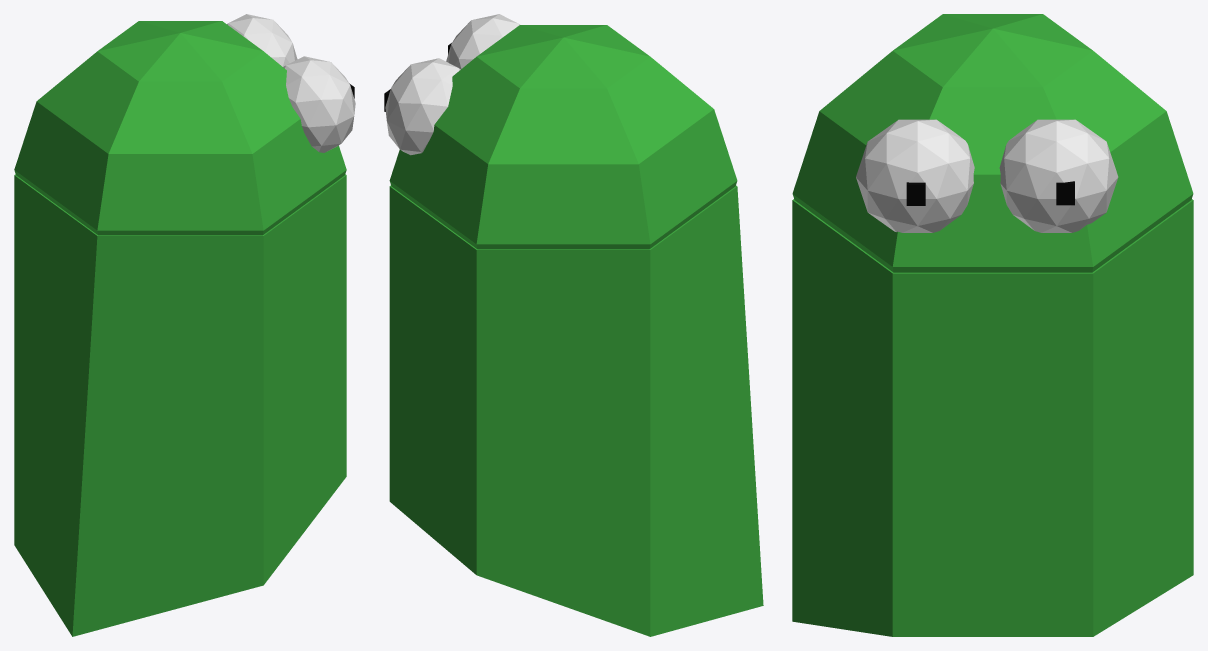
Rendered from fantasma_verde_idle.fbx.
3 renders of one model, left to right at view 1: azimuth 30°, elevation 25°; view 2: azimuth 150°, elevation 25°; view 3: azimuth 270°, elevation 25°, orthographic. The views are drawn at different scales.
Parts seen in each view (by area): view 1: Cylinder, Sphere, Icosphere, Icosphere.001; view 2: Cylinder, Sphere, Icosphere.001, Icosphere; view 3: Cylinder, Sphere, Icosphere, Icosphere.001.
Boxes of the visible parts, left/top/right/bottom form: Cylinder: left=14, top=174, right=346, bottom=636; Sphere: left=14, top=21, right=346, bottom=235; Icosphere: left=283, top=56, right=355, bottom=152; Icosphere.001: left=227, top=14, right=297, bottom=66; Cylinder: left=389, top=185, right=763, bottom=636; Sphere: left=389, top=25, right=737, bottom=249; Icosphere.001: left=385, top=58, right=460, bottom=155; Icosphere: left=446, top=14, right=519, bottom=69; Cylinder: left=792, top=199, right=1193, bottom=636; Sphere: left=792, top=14, right=1193, bottom=272; Icosphere: left=856, top=119, right=974, bottom=232; Icosphere.001: left=999, top=119, right=1118, bottom=232.
Bounding box in the file's own units: 200 × 356 × 200.
